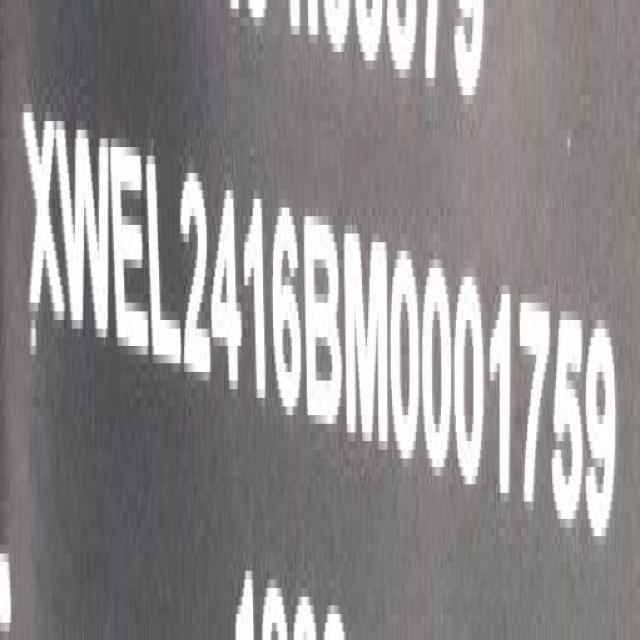0: (452, 266, 487, 496), (388, 244, 421, 481), (421, 250, 453, 480)
1: (489, 263, 512, 525), (243, 176, 269, 401)
2: (178, 144, 213, 378)
4: (211, 170, 245, 391)
5: (550, 294, 586, 532)
6: (271, 189, 303, 429)
7: (516, 292, 552, 526)
9: (586, 320, 618, 542)
B: (304, 214, 342, 439)
E: (110, 112, 151, 359)
L: (147, 131, 183, 375)
M: (342, 218, 391, 452)
W: (57, 99, 110, 346)
X: (23, 93, 64, 339)
